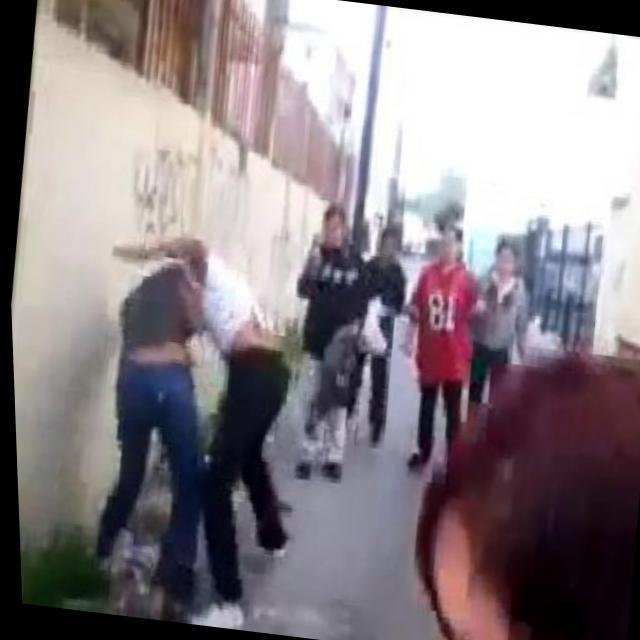fight: (65, 228, 318, 622)
